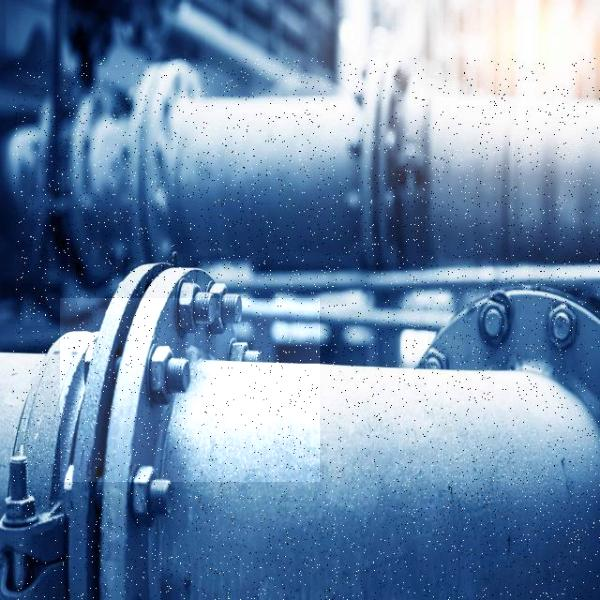water: (60, 298, 320, 482)
